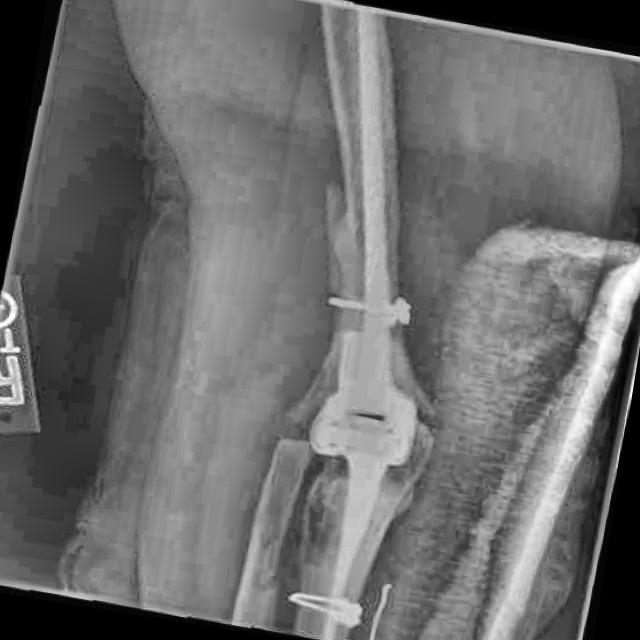elbow positive: (288, 175, 371, 305), (276, 352, 350, 438)
